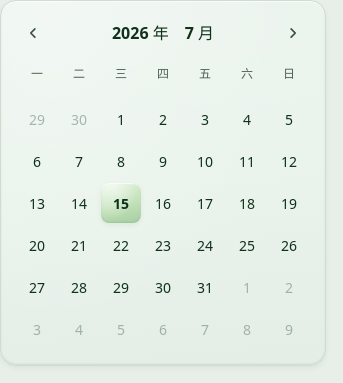
Calendar › navigates to the previous month
This screenshot has width=343, height=383.
Click the button named "上个月" at (33, 33), box [17, 17, 49, 49]
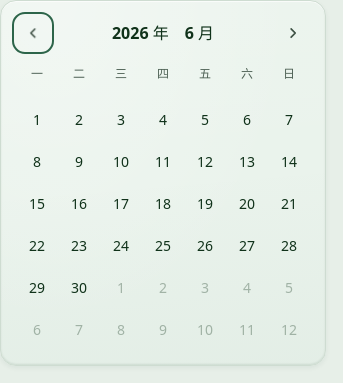
Check: the button named "选择月份" reads "6 月", box [177, 17, 222, 49]
